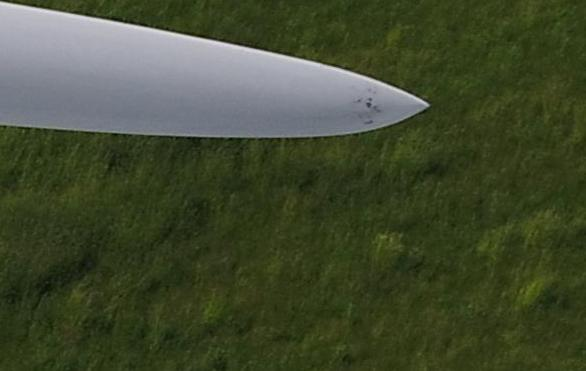damage: (350, 85, 380, 125)
